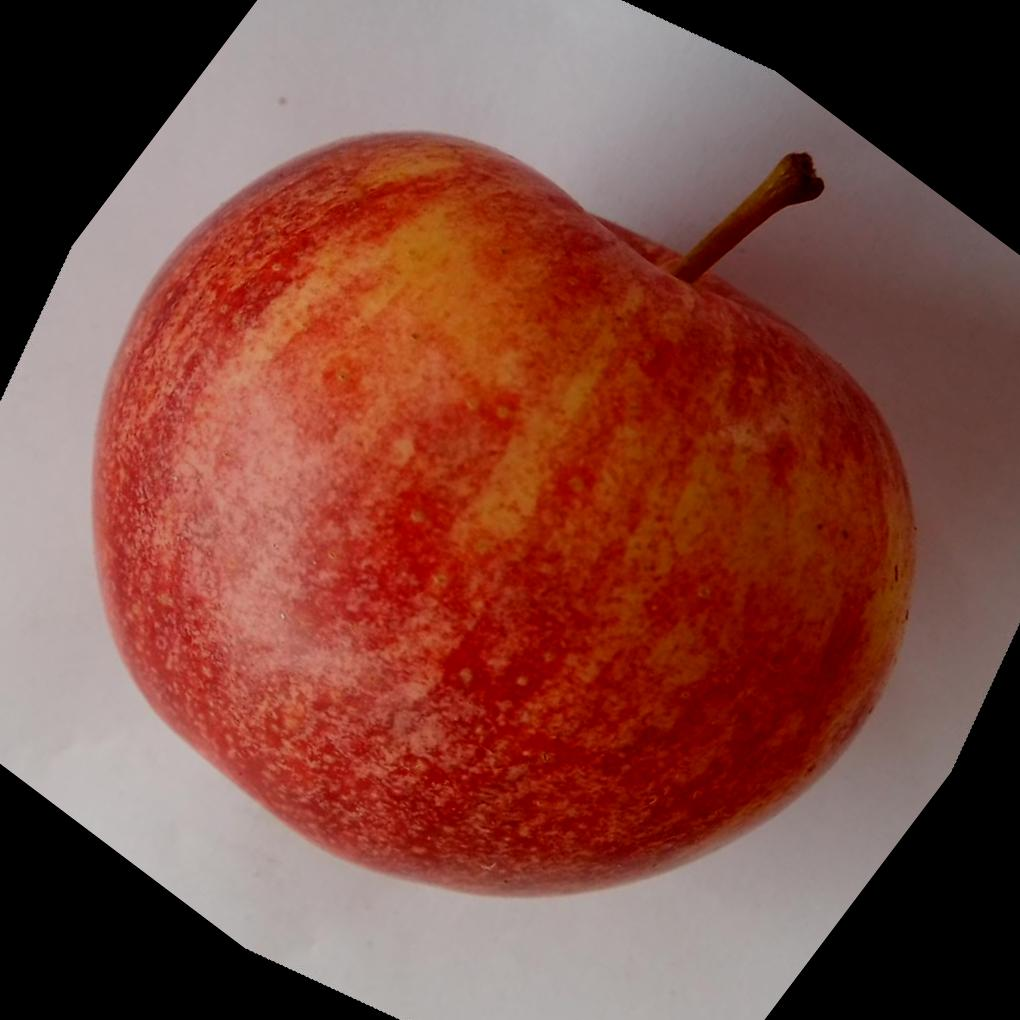FreshGuava: (86, 127, 917, 899)
